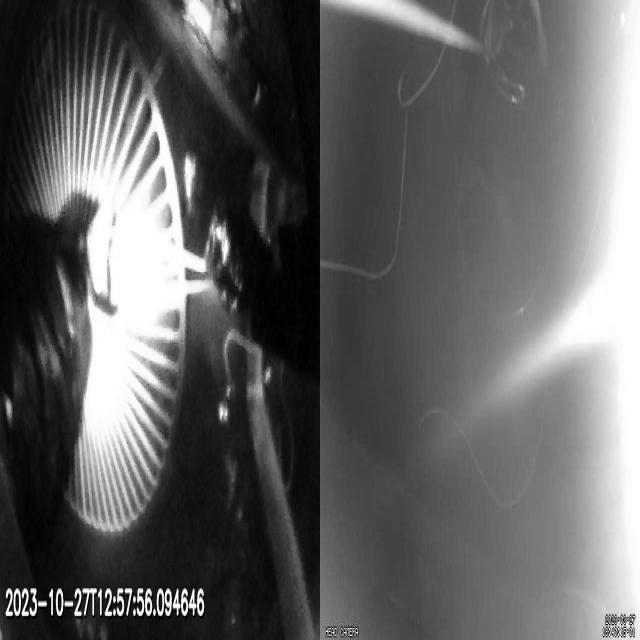head: (96, 202, 162, 322)
